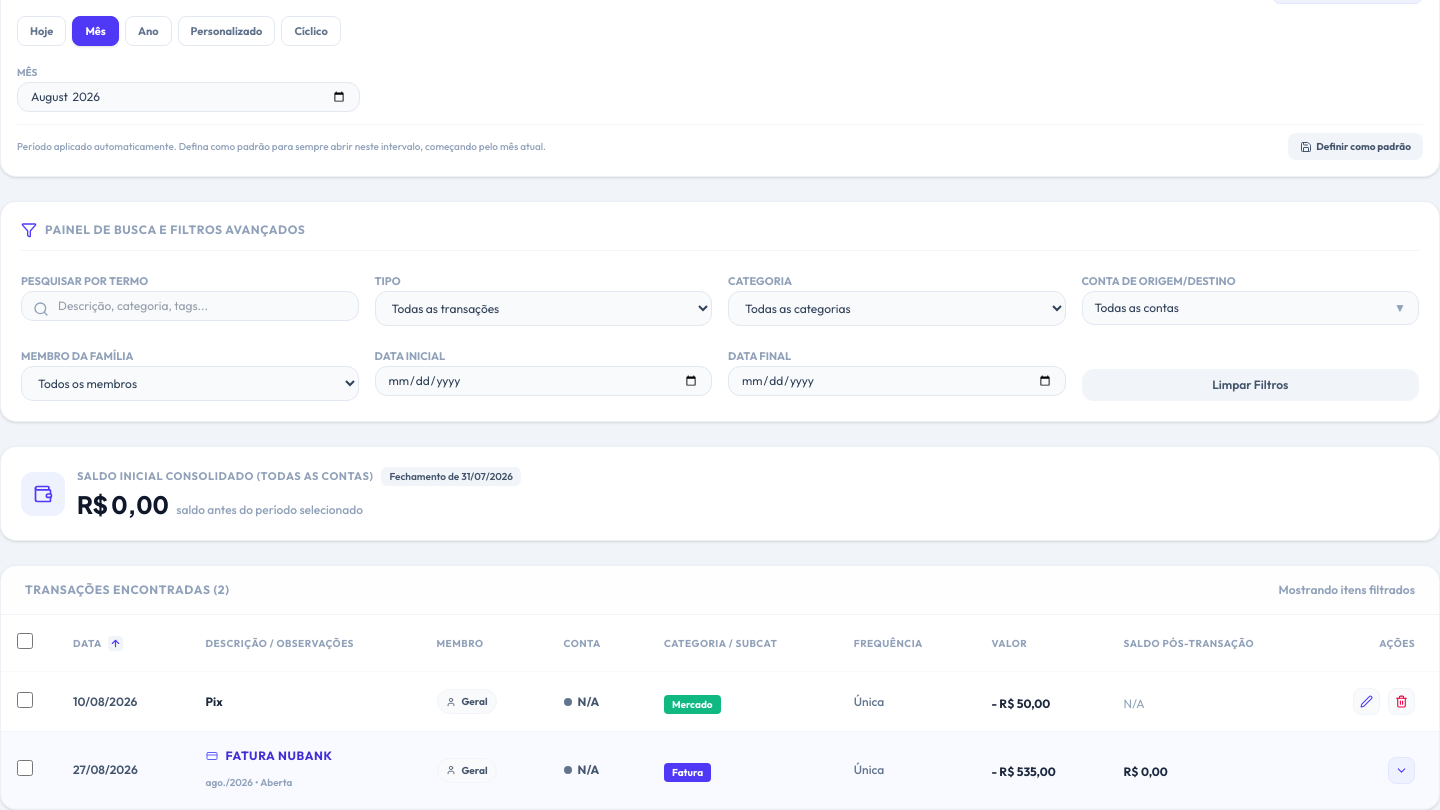
TransactionsManager › exibe a fatura como linha expansível na lista de transações
(page scrolled)
Expected: the text "Pix" is shown, [206,694,223,708]
Expected: the text "Carrefour" is not shown
Expandir a fatura revela os lançamentos
Click the text "Fatura NUBANK" at (269, 756), box [206,748,333,763]
(page scrolled)
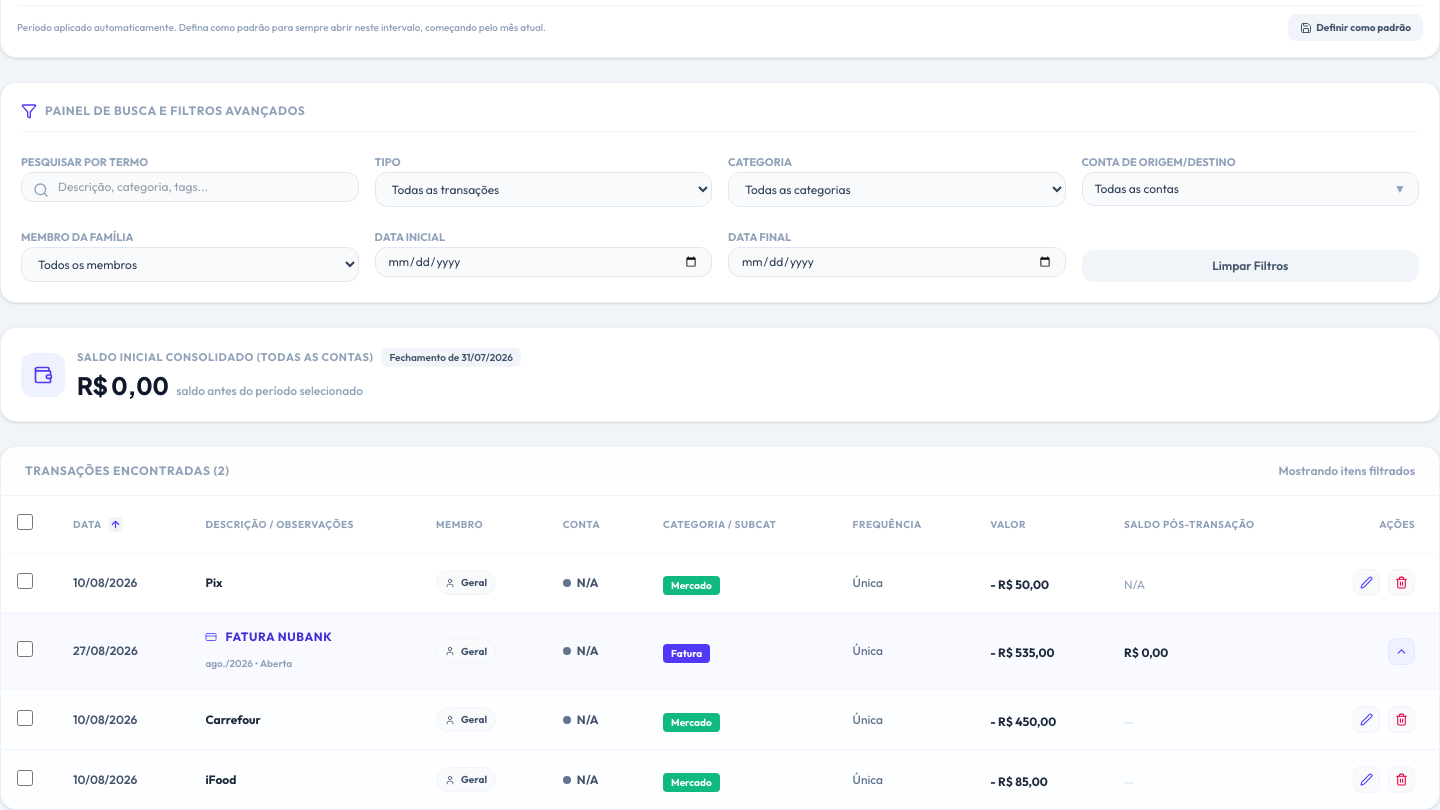
Now the text "Carrefour" is shown, box [205,712,261,726]
Now the text "iFood" is shown, box [205,772,236,786]
